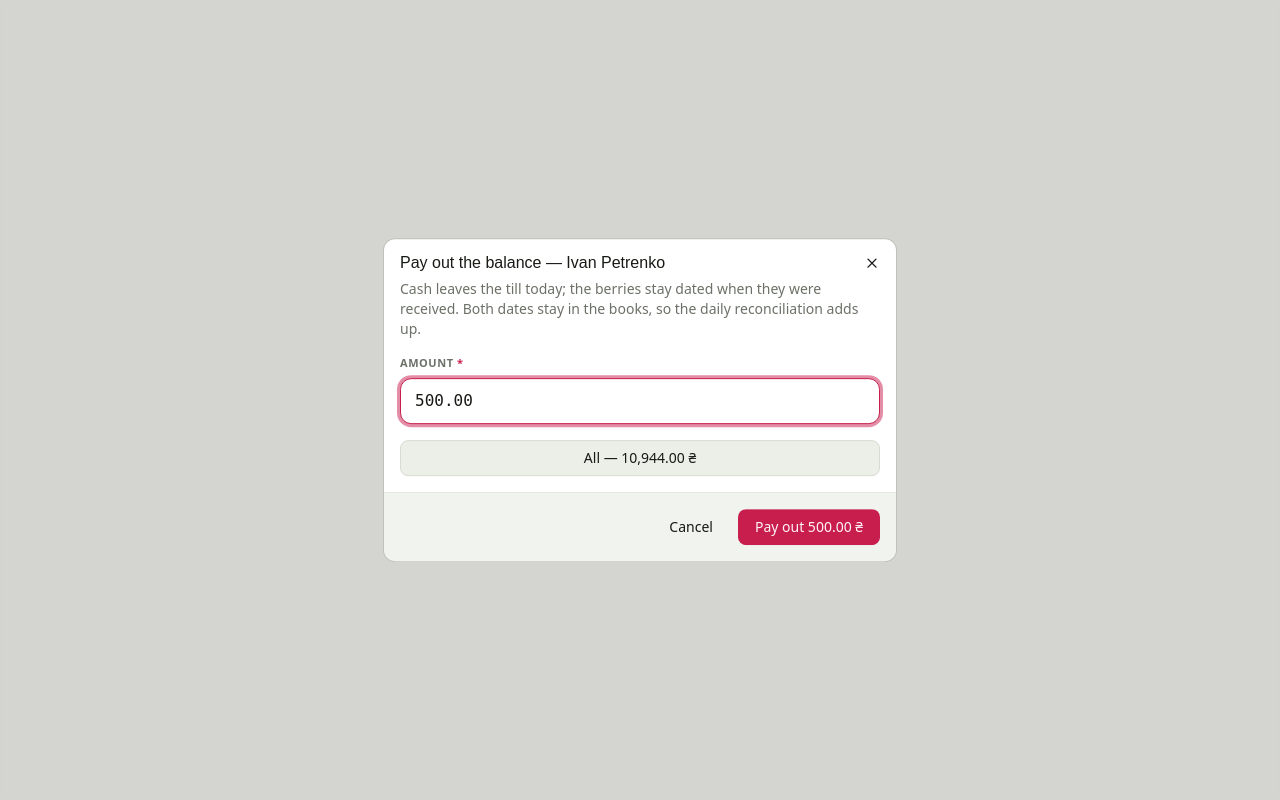
Test case: PayoutDialog › sets the amount to the full debt from the "All" button
This screenshot has width=1280, height=800.
Check: the field labelled "Amount" holds "500.00", box [400,378,880,424]
Click the button "All — 10,944.00 ₴" at (640, 458), box [400,440,880,476]
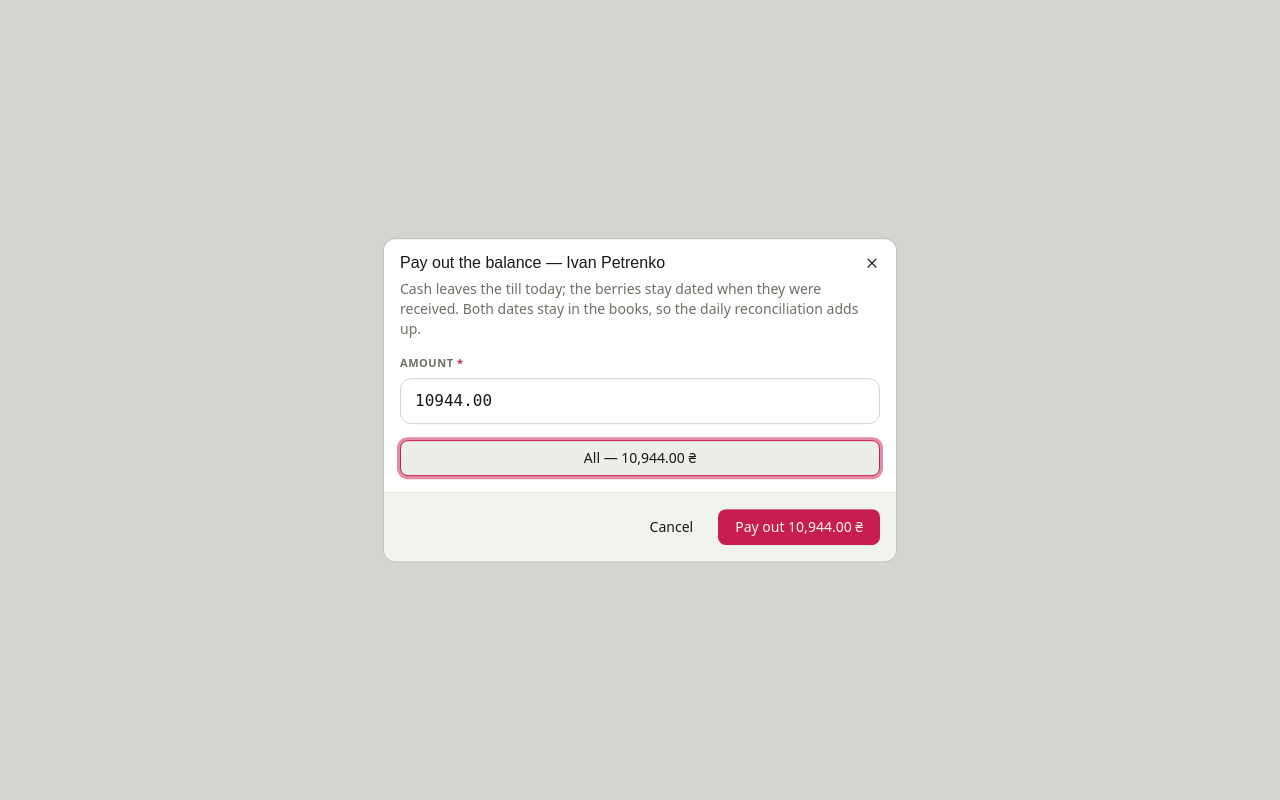
Check: the field labelled "Amount" holds "10944.00", box [400,378,880,424]
